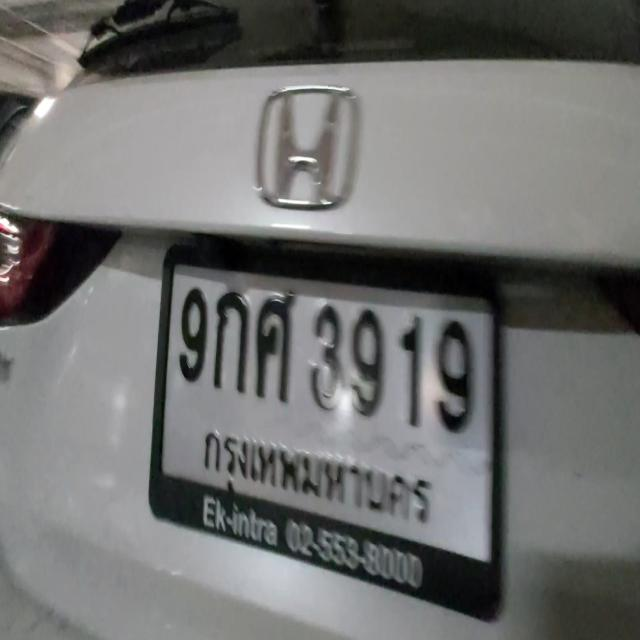license_plate: (167, 260, 497, 563)
